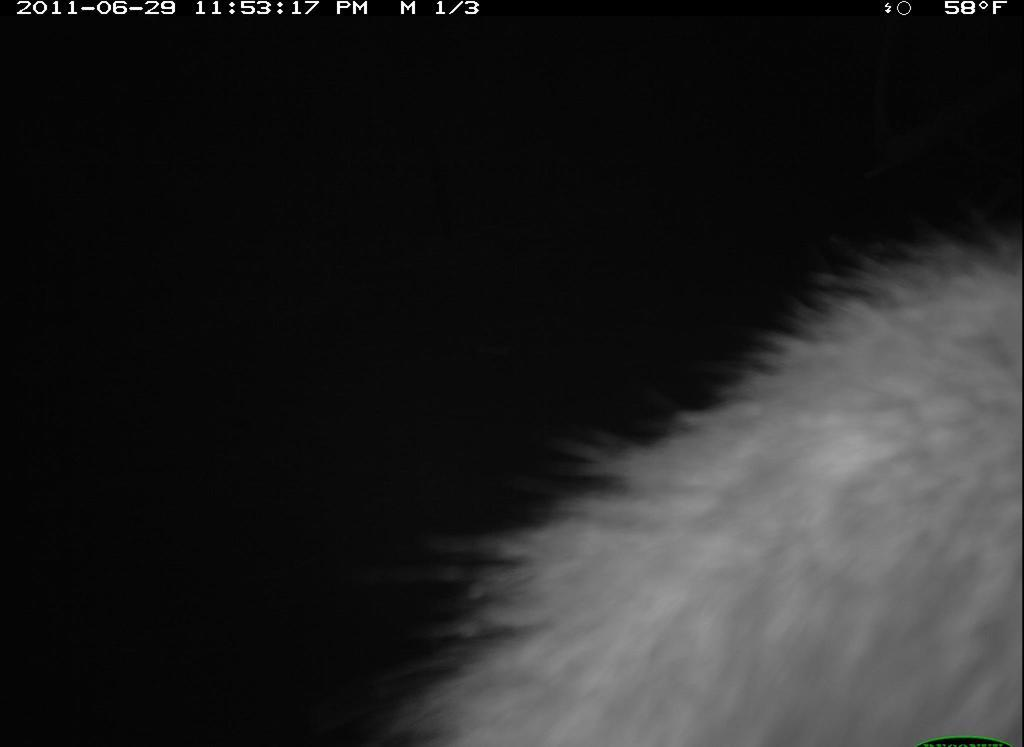raccoon: (344, 222, 1022, 747)
